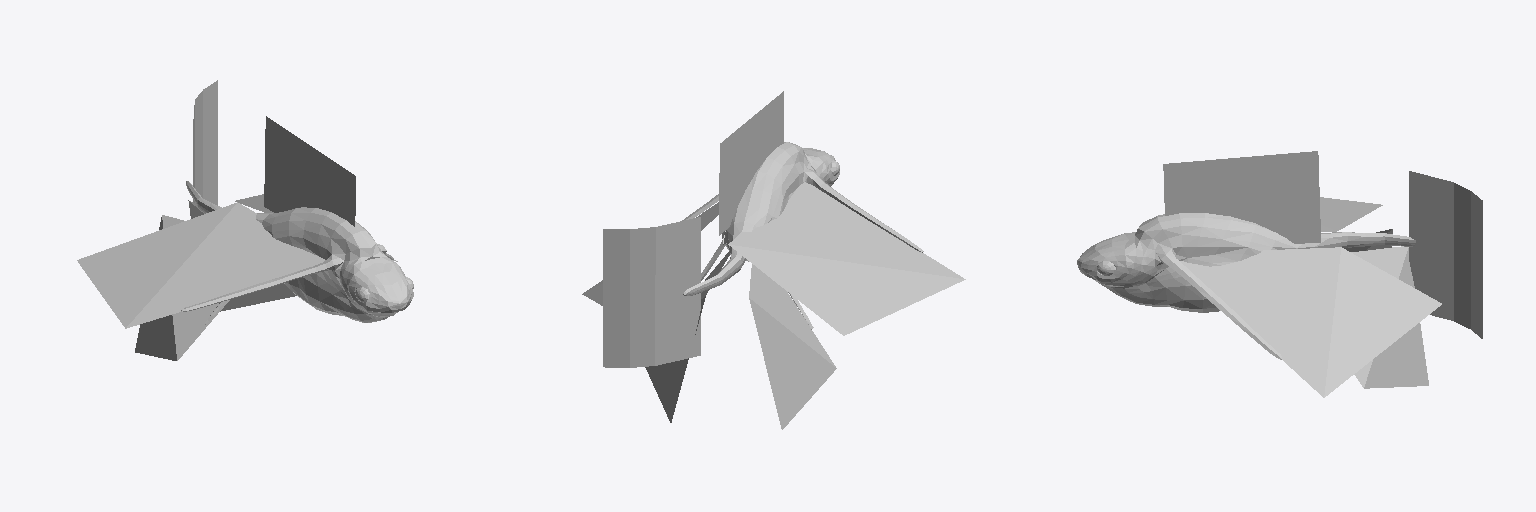
Rendered from fish_000044.obj.
3 renders of one model, left to right at view 1: azimuth 30°, elevation 25°; view 2: azimuth 150°, elevation 25°; view 3: azimuth 270°, elevation 25°, orthographic.
Visible parts, largest first — view 1: flyingFish_low_StingrayPBS1_0; view 2: flyingFish_low_StingrayPBS1_0; view 3: flyingFish_low_StingrayPBS1_0.
Part boxes in pixels (bbox=[...]): flyingFish_low_StingrayPBS1_0: bbox=[77, 80, 413, 360]; flyingFish_low_StingrayPBS1_0: bbox=[582, 91, 965, 429]; flyingFish_low_StingrayPBS1_0: bbox=[1077, 151, 1482, 397].
Size of the model in its own units: 17.64 by 12.23 by 18.86.